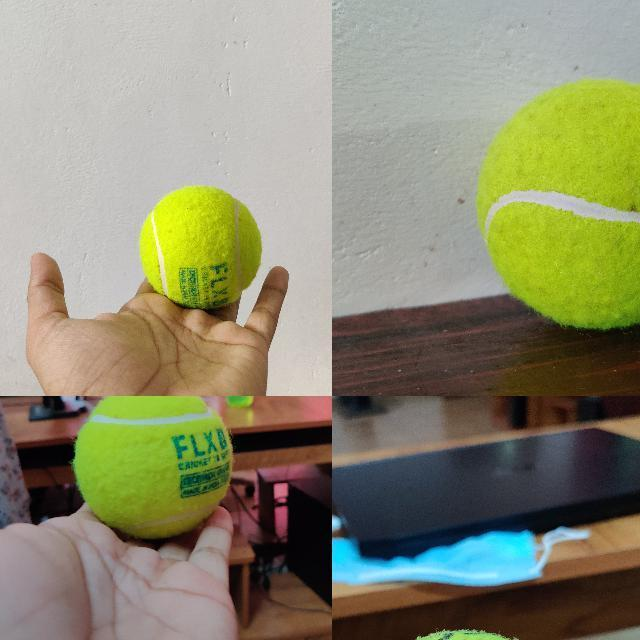tennis-ball: (476, 77, 639, 331), (74, 396, 233, 539), (137, 184, 263, 310)
